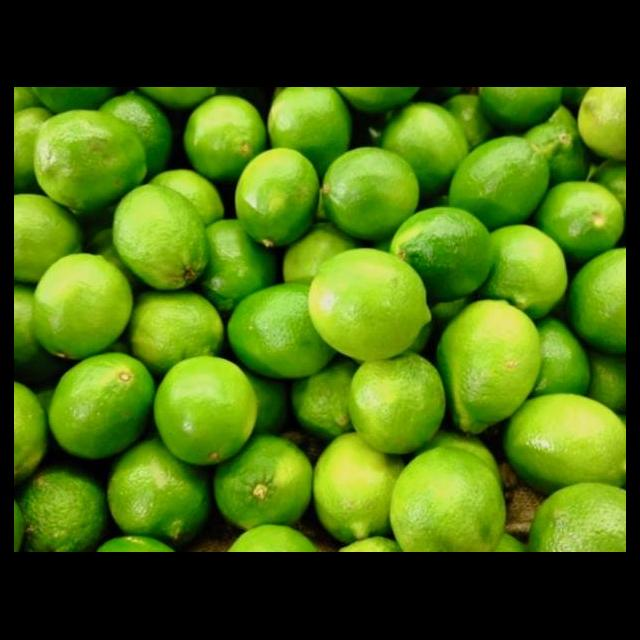lime: (308, 250, 434, 364), (389, 446, 508, 552), (153, 358, 259, 468), (32, 254, 134, 364), (234, 148, 321, 250)
